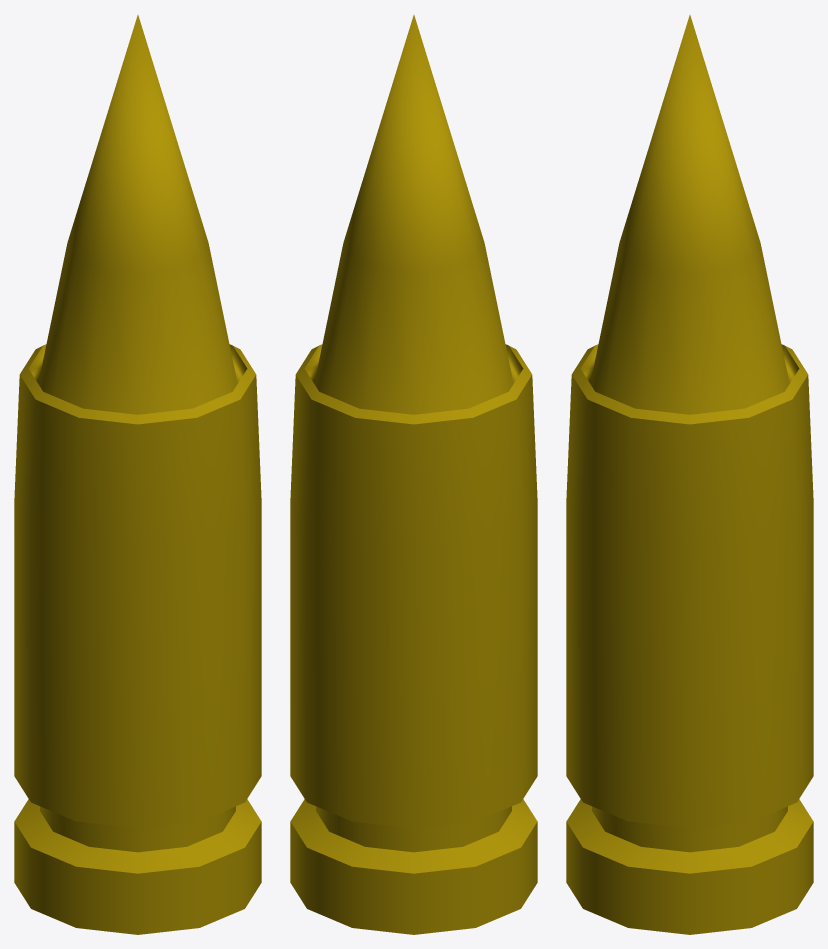
Rendered from bullet.fbx.
The picture shows the model from 3 angles, left to right: view 1: azimuth 30°, elevation 25°; view 2: azimuth 150°, elevation 25°; view 3: azimuth 270°, elevation 25°; orthographic projection.
Parts seen in each view (by area): view 1: bullet; view 2: bullet; view 3: bullet.
Boxes of the visible parts, x1=… form: bullet: x1=14, y1=15, x2=261, y2=934; bullet: x1=290, y1=15, x2=537, y2=934; bullet: x1=566, y1=15, x2=813, y2=934.
Size of the model in its own units: 2.3 by 8.9 by 2.3.
